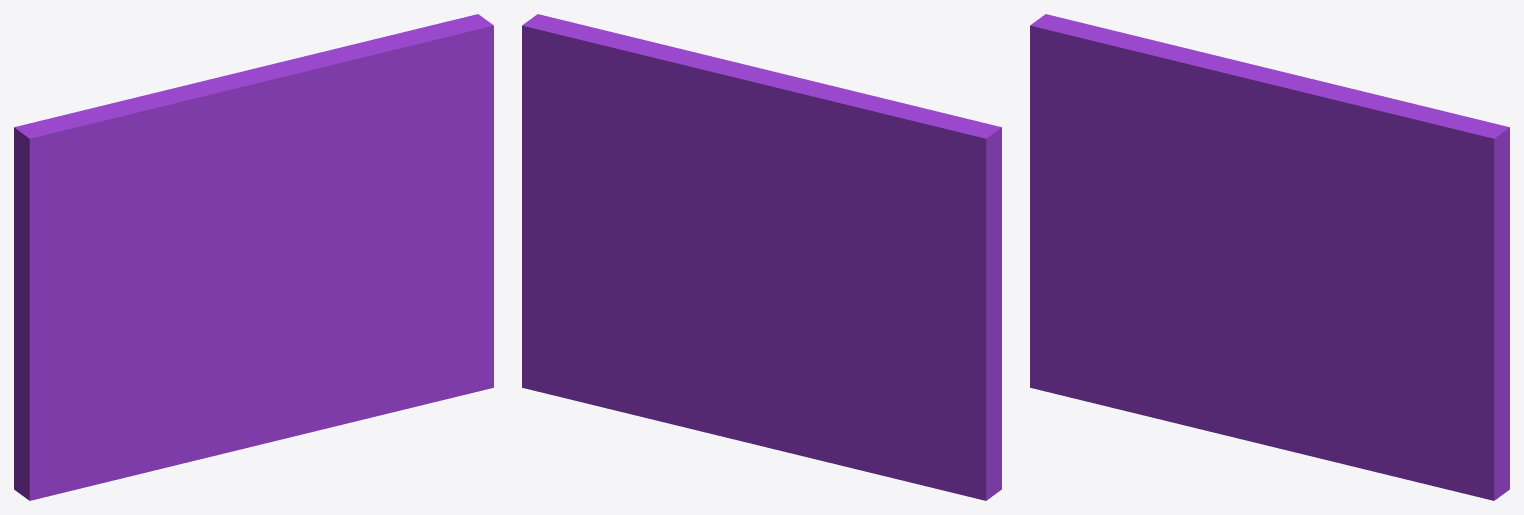
The model's file is Barrier_18_chunks.fbx.
The picture shows the model from 3 angles, left to right: view 1: azimuth 30°, elevation 25°; view 2: azimuth 150°, elevation 25°; view 3: azimuth 330°, elevation 25°; orthographic projection.
Parts seen in each view (by area): view 1: Barrier_18_0, Barrier_18_1, Barrier_18_2, Barrier_18_3; view 2: Barrier_18_1, Barrier_18_0, Barrier_18_3, Barrier_18_2; view 3: Barrier_18_0, Barrier_18_1, Barrier_18_2, Barrier_18_3.
Boxes of the visible parts, box(x1,y1,x2,y2) form: Barrier_18_0: box(14, 212, 270, 500); Barrier_18_1: box(267, 113, 493, 442); Barrier_18_2: box(182, 14, 493, 270); Barrier_18_3: box(14, 73, 236, 241); Barrier_18_1: box(522, 90, 759, 444); Barrier_18_0: box(756, 201, 1001, 500); Barrier_18_3: box(724, 84, 1001, 277); Barrier_18_2: box(522, 14, 848, 230); Barrier_18_0: box(1030, 99, 1270, 446); Barrier_18_1: box(1267, 192, 1509, 500); Barrier_18_2: box(1182, 62, 1509, 273); Barrier_18_3: box(1030, 14, 1267, 219).
Bounding box in the file's own units: 381 × 284 × 22.39.
